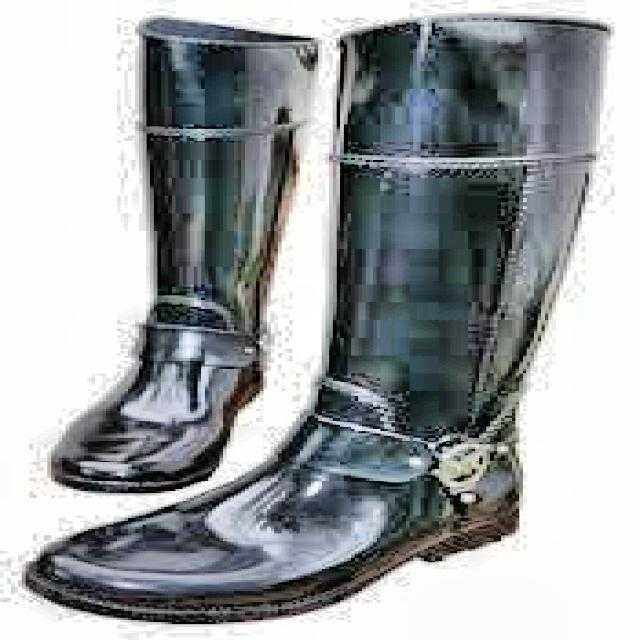shoes: (36, 4, 612, 628)
